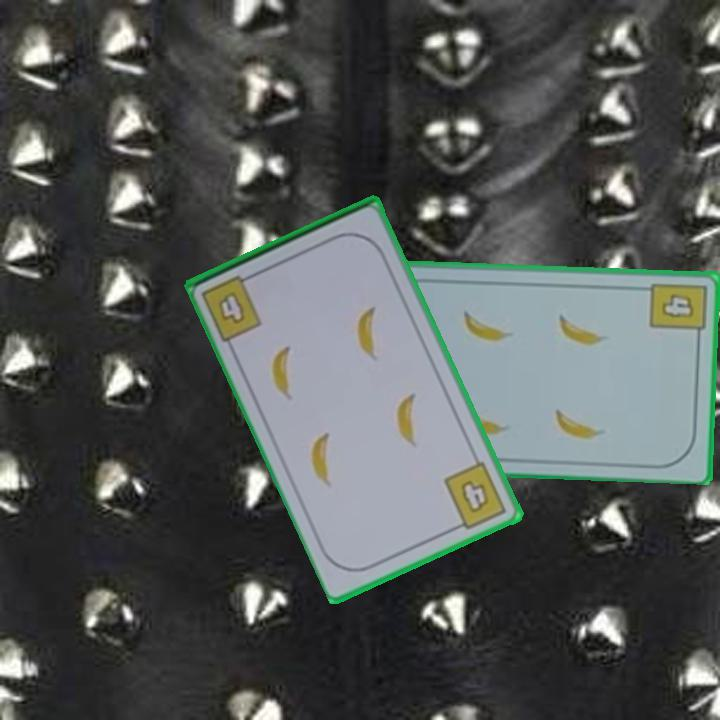4b: (440, 457, 510, 534), (198, 269, 265, 344), (646, 279, 709, 343)
